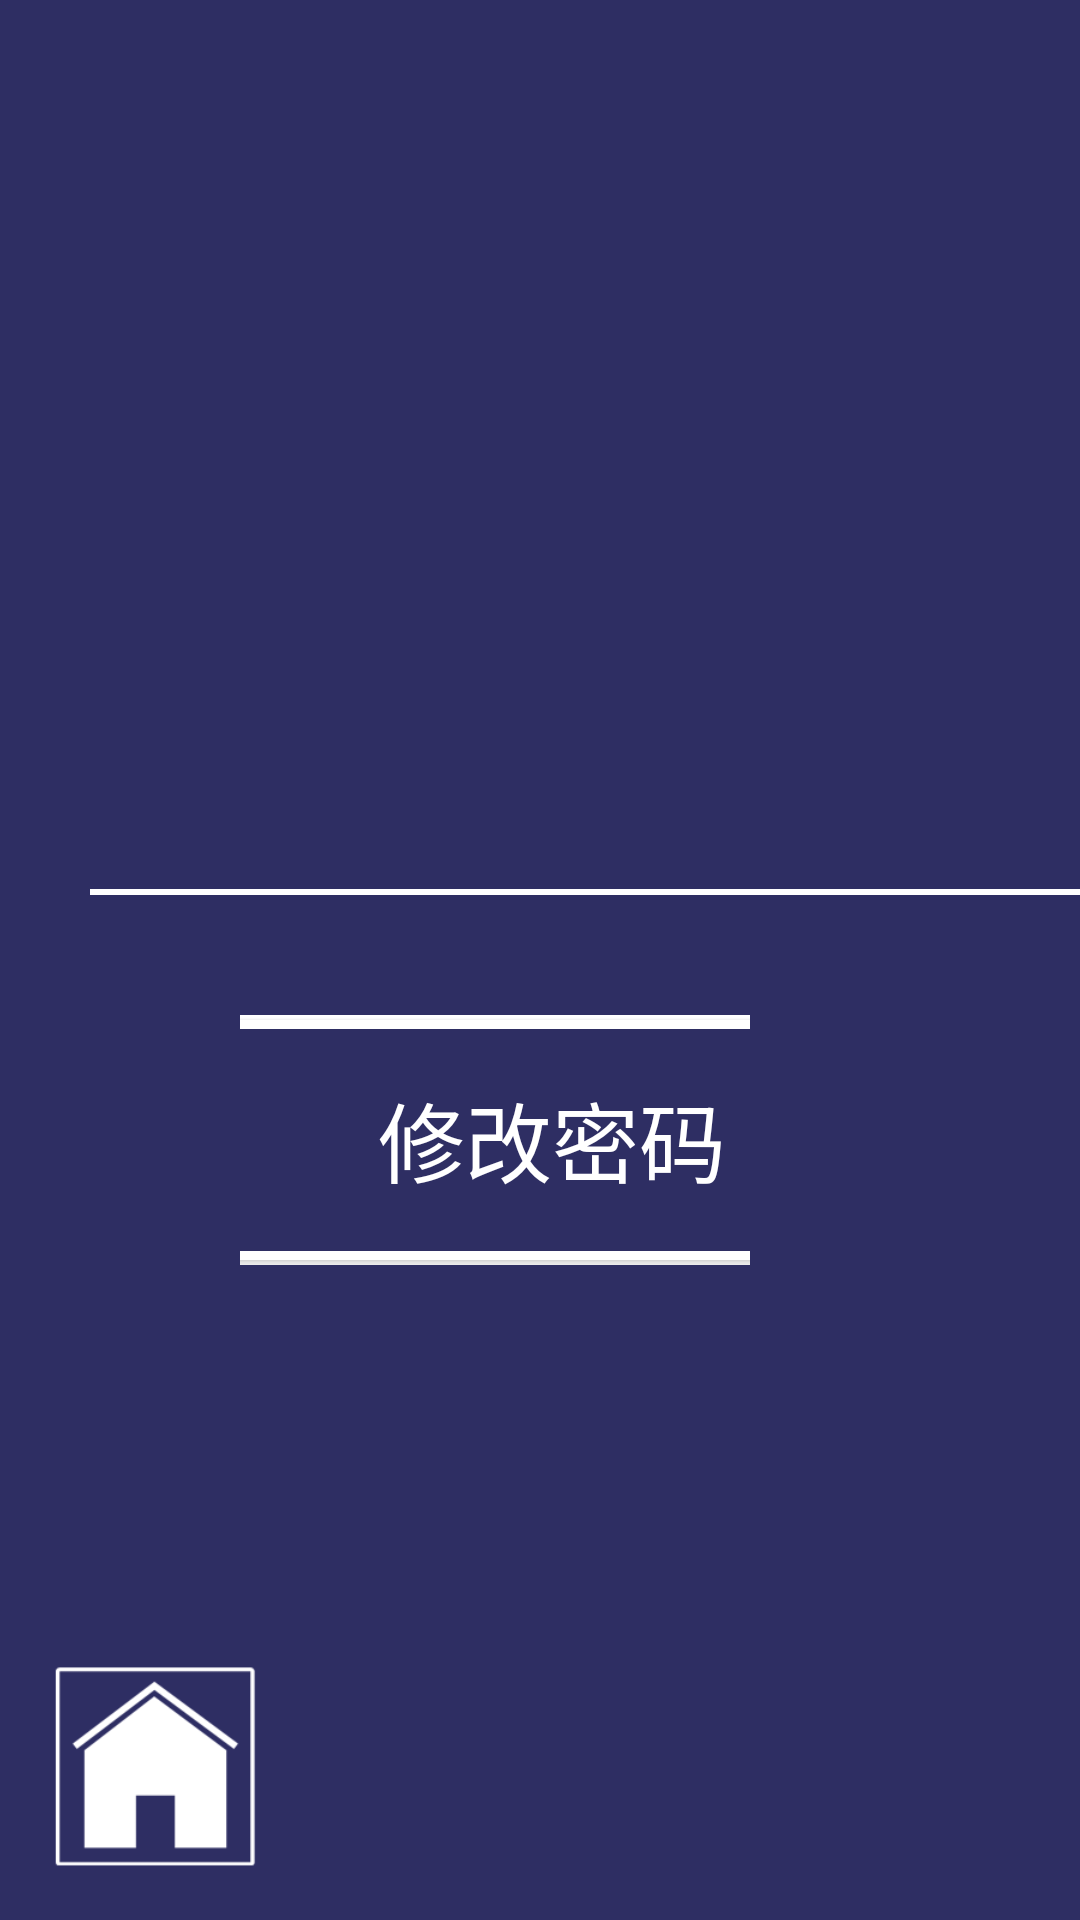

Icon bounding boxes for this 1080w x 1920h phone screenshot, format (x1, y1, x2, y2):
home: (55, 1667, 255, 1866)
